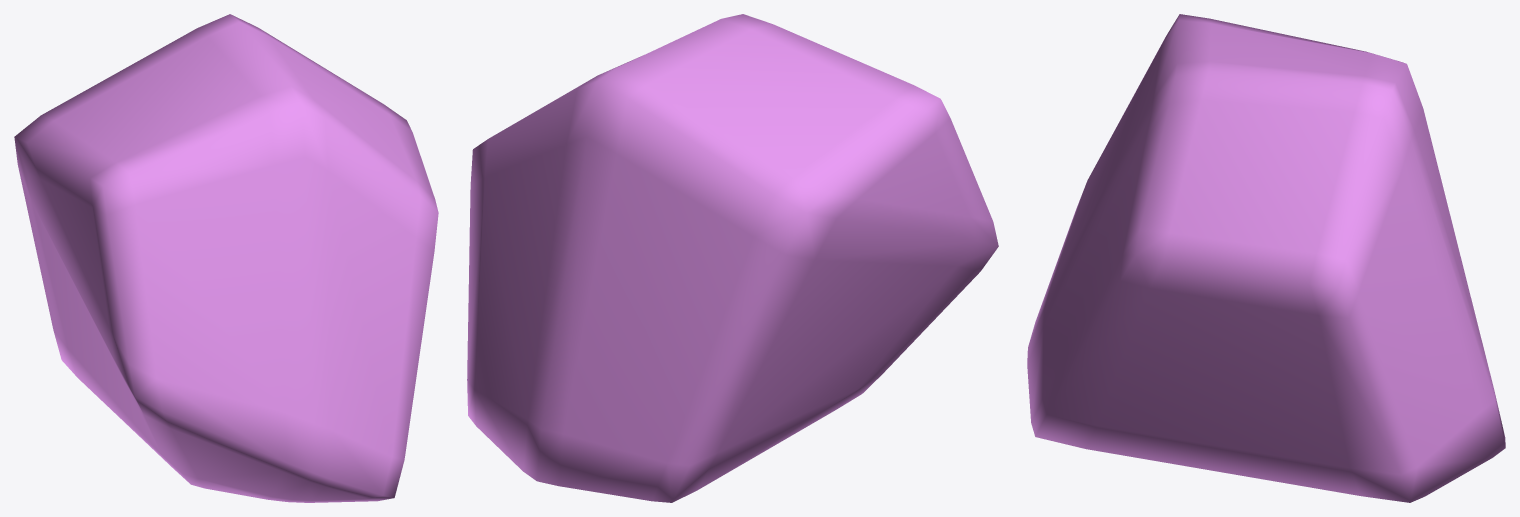
The model's file is Rock02.FBX.
3 renders of one model, left to right at view 1: azimuth 30°, elevation 25°; view 2: azimuth 150°, elevation 25°; view 3: azimuth 270°, elevation 25°, orthographic.
Visible parts, largest first — view 1: Box005; view 2: Box005; view 3: Box005.
Boxes of the visible parts, left/top/right/bottom form: Box005: left=14, top=14, right=438, bottom=502; Box005: left=467, top=14, right=998, bottom=502; Box005: left=1027, top=14, right=1505, bottom=502.
Size of the model in its own units: 22.68 by 19.79 by 23.63.
